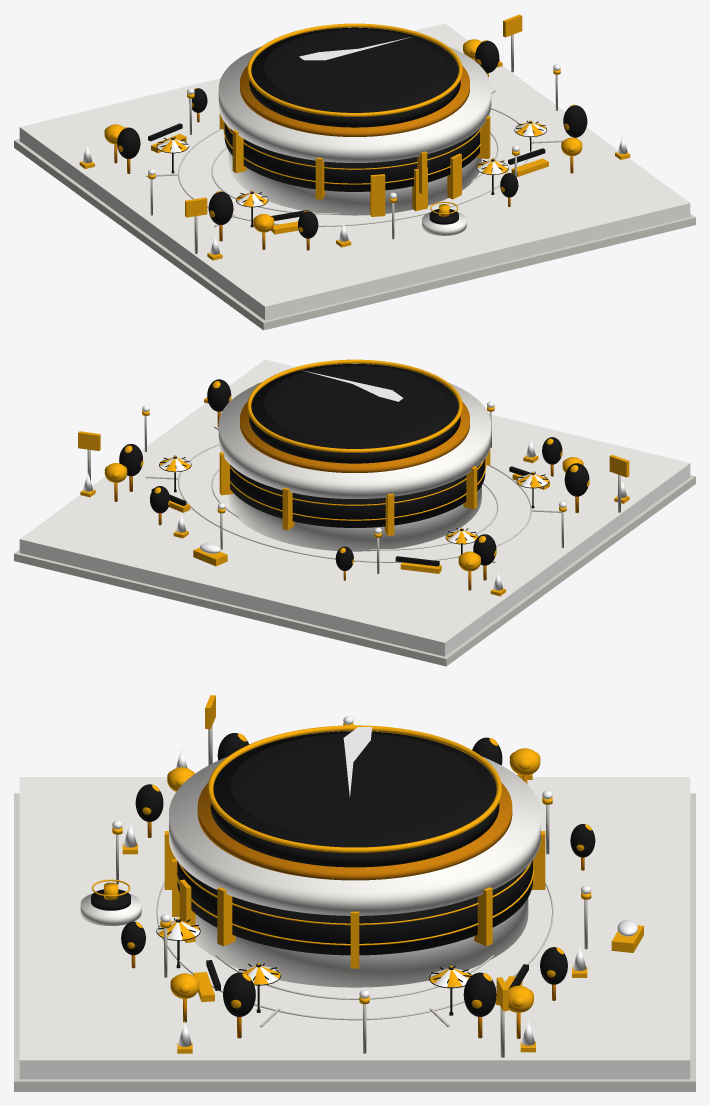
File: zona_plaza_central_before_real_swoosh_base.glb
3 views of the same model, one above another, from view 1: azimuth 30°, elevation 25°; view 2: azimuth 150°, elevation 25°; view 3: azimuth 270°, elevation 25° (orthographic). The views are drawn at different scales.
Visible parts, largest first — view 1: single compact rounded-square plaza tile, barely convex satin black top surface, wide clean white roof collar, thin visible grey underside bevel, continuous black storefront ribbon, flat black circular roof disk, low wide white cylindrical plaza body, thin amber roof accent under disk, thin bright yellow outline around black roof disk, chunky yellow entrance fins.001, vertical black tree crown outline, thin engraved circular plaza paving guide.001 (+6 smaller); view 2: single compact rounded-square plaza tile, barely convex satin black top surface, wide clean white roof collar, thin visible grey underside bevel, continuous black storefront ribbon, low wide white cylindrical plaza body, flat black circular roof disk, thin amber roof accent under disk, thin bright yellow outline around black roof disk, thin engraved circular plaza paving guide.001, vertical black tree crown outline, vertical black tree crown outline.001 (+5 smaller); view 3: single compact rounded-square plaza tile, barely convex satin black top surface, wide clean white roof collar, thin visible grey underside bevel, continuous black storefront ribbon, low wide white cylindrical plaza body, flat black circular roof disk, thin amber roof accent under disk, thin bright yellow outline around black roof disk, round miniature fountain base, vertical black tree crown outline.001, vertical black tree crown outline.003 (+11 smaller).
Part boxes in pixels (bbox=[...]): single compact rounded-square plaza tile: bbox=[19, 23, 690, 320]; barely convex satin black top surface: bbox=[263, 29, 446, 106]; wide clean white roof collar: bbox=[218, 46, 491, 162]; thin visible grey underside bevel: bbox=[14, 139, 695, 330]; continuous black storefront ribbon: bbox=[224, 122, 479, 191]; flat black circular roof disk: bbox=[249, 27, 460, 127]; low wide white cylindrical plaza body: bbox=[228, 150, 481, 215]; thin amber roof accent under disk: bbox=[240, 65, 469, 136]; thin bright yellow outline around black roof disk: bbox=[247, 23, 462, 116]; chunky yellow entrance fins.001: bbox=[370, 174, 385, 216]; vertical black tree crown outline: bbox=[208, 191, 233, 224]; thin engraved circular plaza paving guide.001: bbox=[178, 108, 531, 226]; single compact rounded-square plaza tile: bbox=[19, 359, 690, 656]; barely convex satin black top surface: bbox=[263, 365, 446, 443]; wide clean white roof collar: bbox=[218, 382, 491, 498]; thin visible grey underside bevel: bbox=[14, 475, 695, 666]; continuous black storefront ribbon: bbox=[230, 459, 485, 527]; low wide white cylindrical plaza body: bbox=[228, 486, 481, 551]; flat black circular roof disk: bbox=[249, 364, 460, 463]; thin amber roof accent under disk: bbox=[240, 401, 469, 472]; thin bright yellow outline around black roof disk: bbox=[247, 359, 462, 452]; thin engraved circular plaza paving guide.001: bbox=[178, 444, 531, 562]; vertical black tree crown outline: bbox=[564, 463, 589, 496]; vertical black tree crown outline.001: bbox=[207, 379, 231, 411]; single compact rounded-square plaza tile: bbox=[19, 777, 690, 1079]; barely convex satin black top surface: bbox=[230, 733, 479, 839]; wide clean white roof collar: bbox=[169, 756, 540, 915]; thin visible grey underside bevel: bbox=[14, 793, 695, 1091]; continuous black storefront ribbon: bbox=[177, 860, 532, 955]; low wide white cylindrical plaza body: bbox=[195, 898, 528, 987]; flat black circular roof disk: bbox=[210, 731, 499, 867]; thin amber roof accent under disk: bbox=[197, 782, 512, 880]; thin bright yellow outline around black roof disk: bbox=[207, 725, 502, 852]; round miniature fountain base: bbox=[80, 893, 141, 925]; vertical black tree crown outline.001: bbox=[223, 972, 255, 1016]; vertical black tree crown outline.003: bbox=[463, 972, 496, 1016].
Size of the model in its own units: 4.35 by 1.29 by 4.25.
